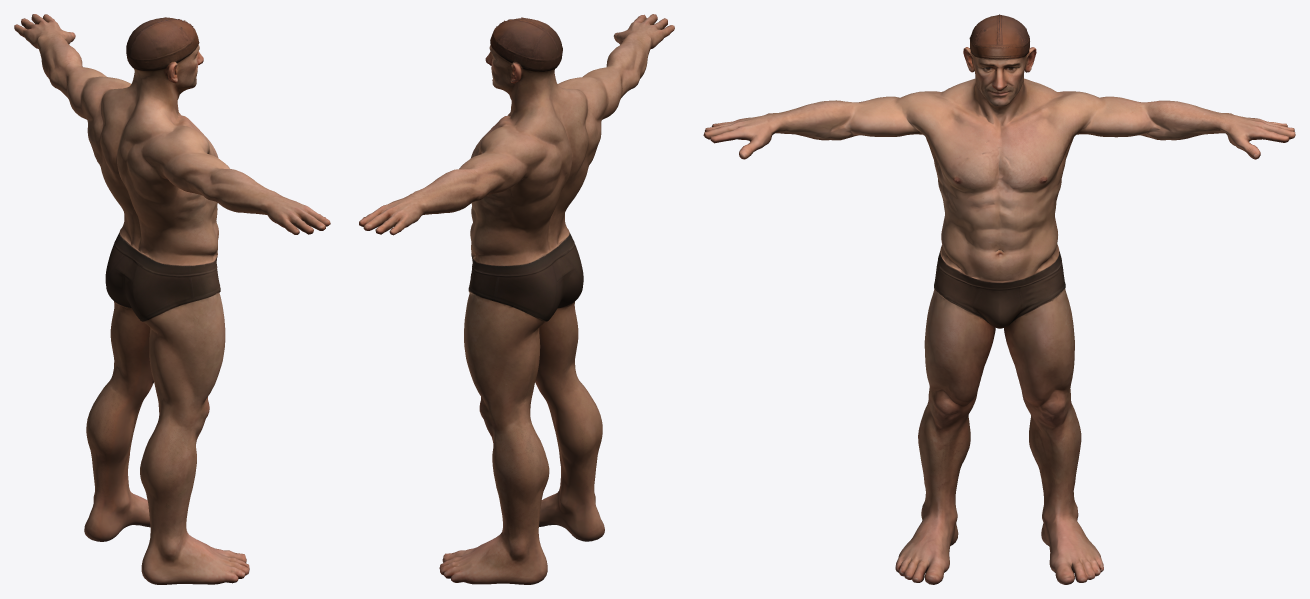
3 views of the same model, side by side, from view 1: azimuth 30°, elevation 25°; view 2: azimuth 150°, elevation 25°; view 3: azimuth 270°, elevation 25° (orthographic). The views are drawn at different scales.
Visible parts, largest first — view 1: tripo_node_c68a6e33-8705-4fb1-9037-90da18dced94; view 2: tripo_node_c68a6e33-8705-4fb1-9037-90da18dced94; view 3: tripo_node_c68a6e33-8705-4fb1-9037-90da18dced94.
Part boxes in pixels (x1,y1,x2,y2): tripo_node_c68a6e33-8705-4fb1-9037-90da18dced94: (14,14,330,584); tripo_node_c68a6e33-8705-4fb1-9037-90da18dced94: (359,14,674,584); tripo_node_c68a6e33-8705-4fb1-9037-90da18dced94: (703,14,1295,584).
Size of the model in its own units: 0.1941 by 0.9801 by 0.9673.
Materials: 1 (1 with a texture image).
